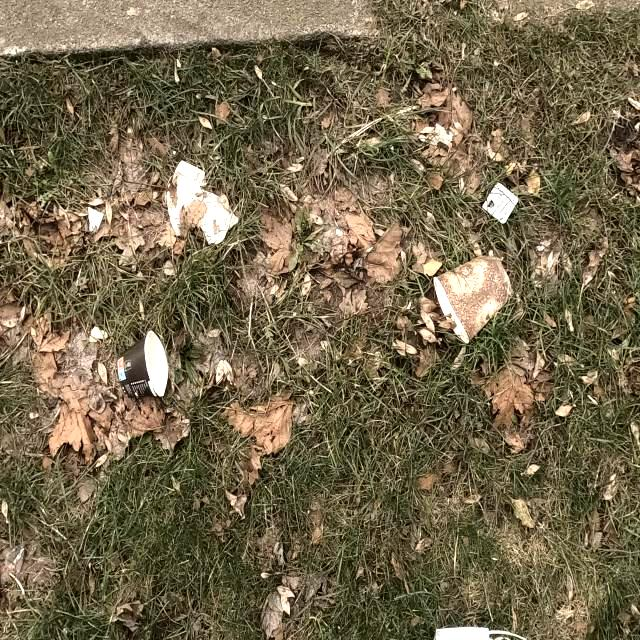Coffee Cup: (432, 253, 514, 345), (116, 328, 170, 400)
Mask: (434, 626, 528, 640)
Paper: (165, 158, 239, 245), (482, 181, 518, 225), (88, 205, 104, 233)
